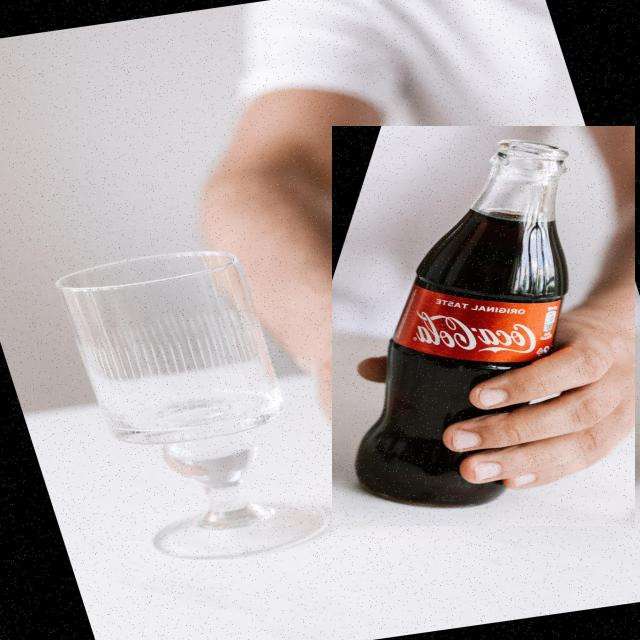coca-cola: (332, 126, 635, 526)
